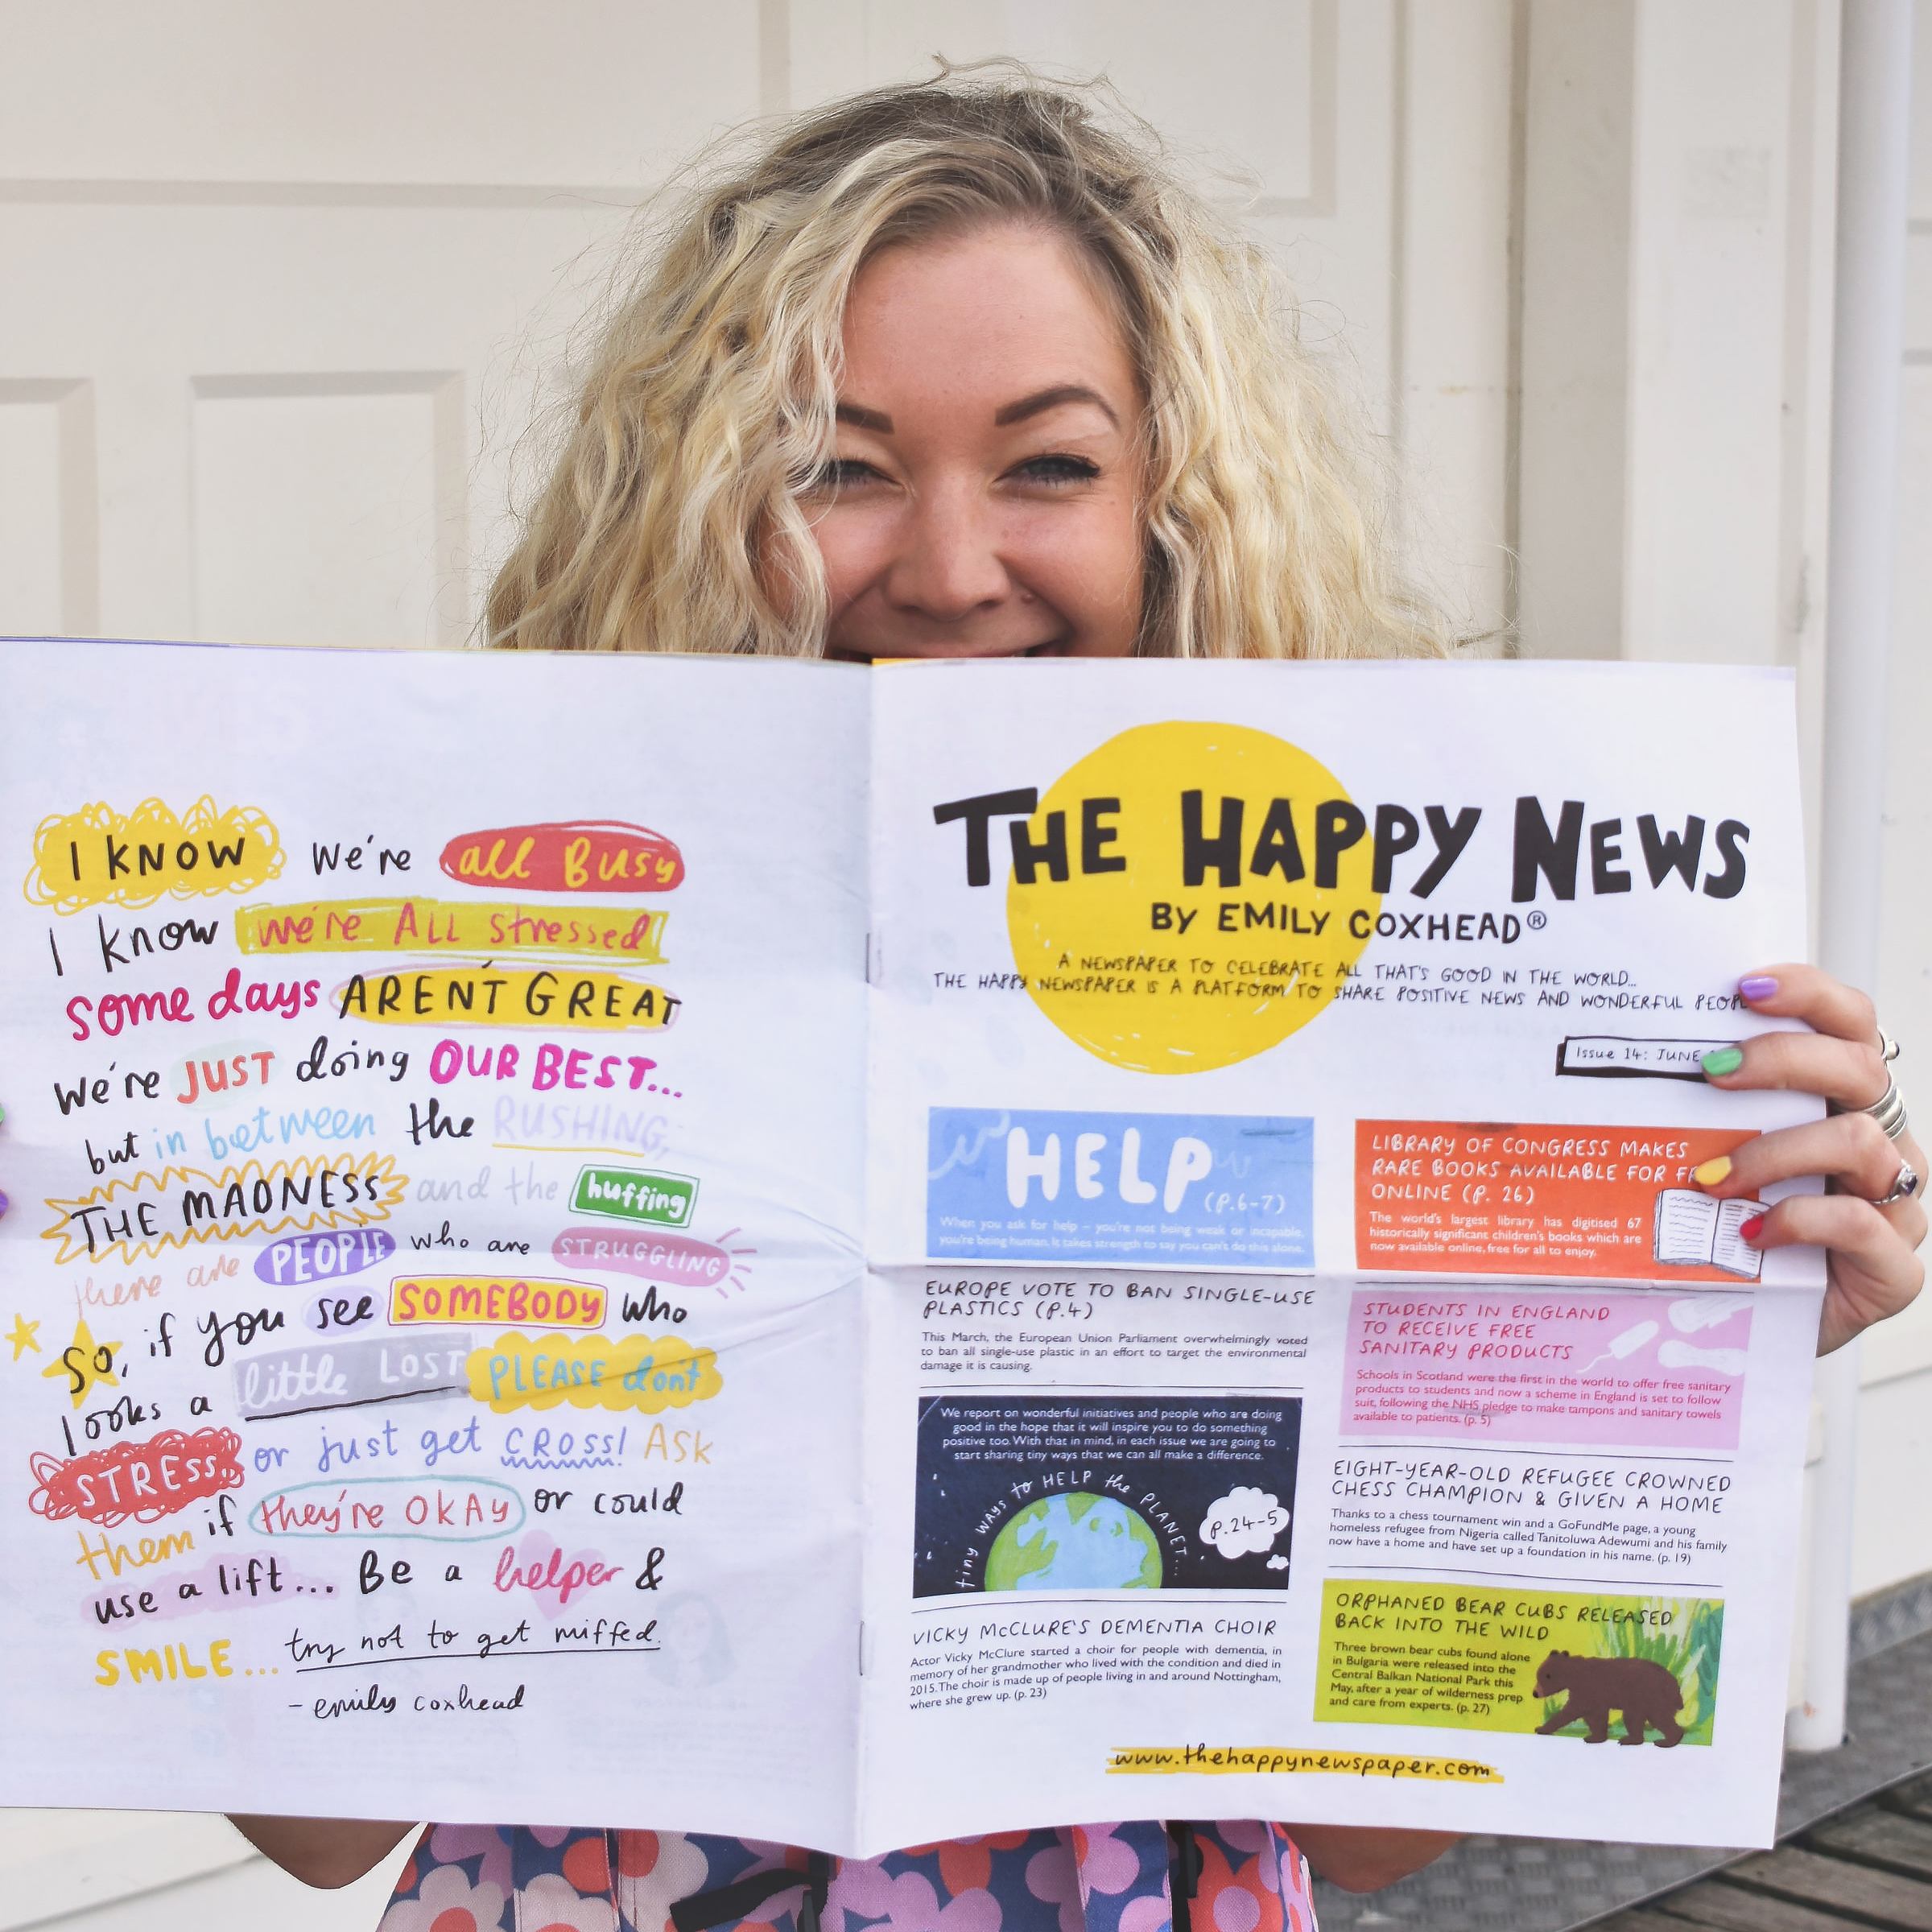news_paper: (7, 621, 1925, 1932)
